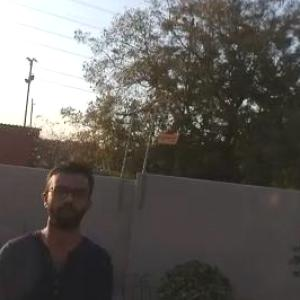follow: (0, 144, 116, 299)
